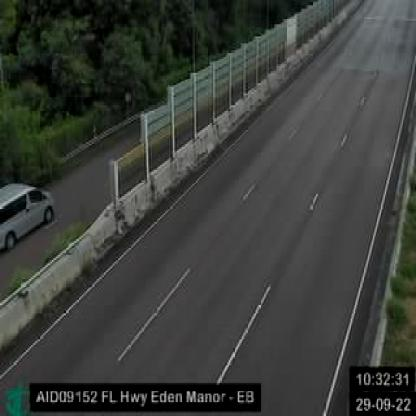Car: (0, 176, 62, 253)
